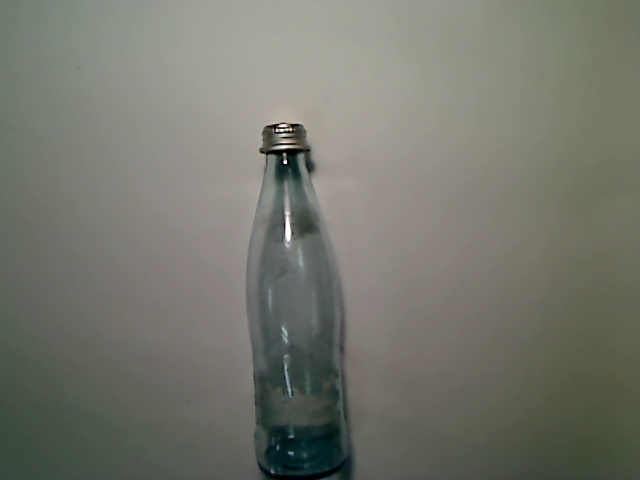bottle: (243, 122, 354, 480)
